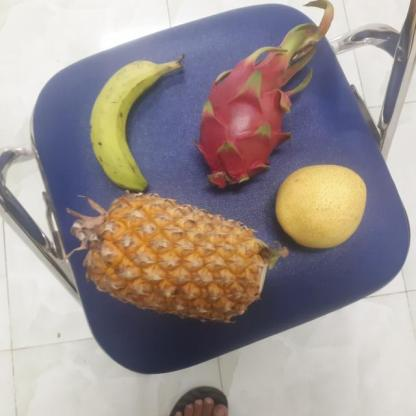banana: (87, 59, 179, 190)
pear: (269, 166, 368, 248)
pineapple: (68, 191, 278, 323)
pitaya: (192, 56, 300, 186)
